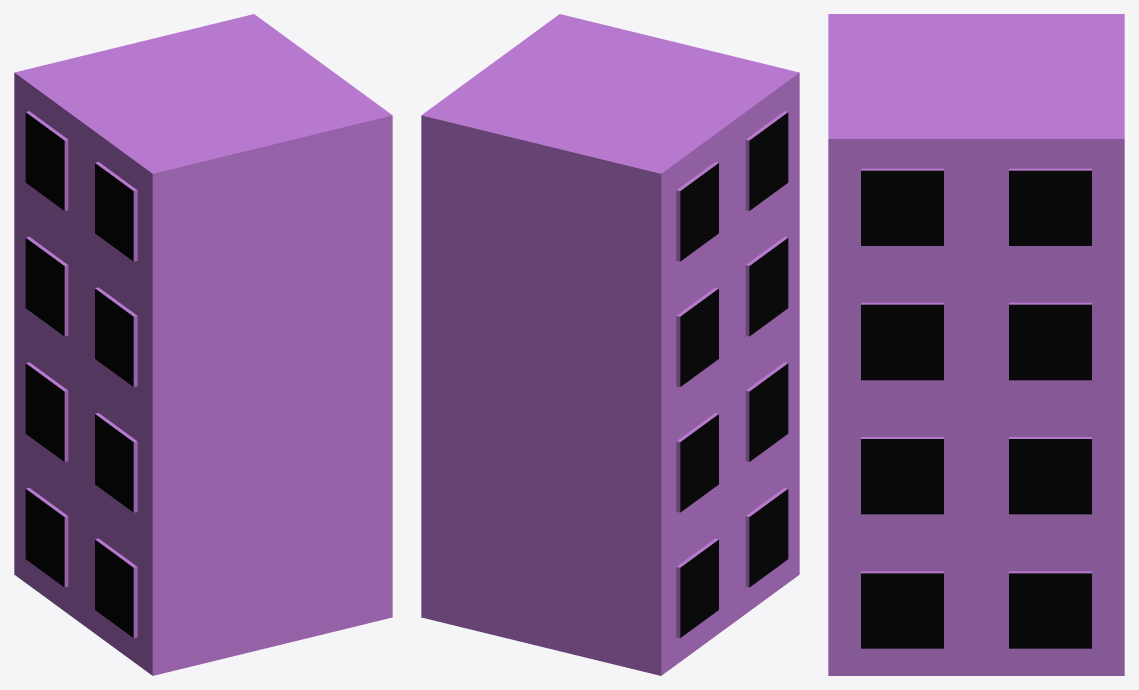
Rendered from building3.glb.
3 renders of one model, left to right at view 1: azimuth 30°, elevation 25°; view 2: azimuth 150°, elevation 25°; view 3: azimuth 270°, elevation 25°, orthographic. The views are drawn at different scales.
Visible parts, largest first — view 1: Cube; view 2: Cube; view 3: Cube.
Part boxes in pixels (bbox=[...]): Cube: bbox=[14, 14, 392, 675]; Cube: bbox=[421, 14, 799, 675]; Cube: bbox=[828, 14, 1124, 675].
Bounding box in the file's own units: 2.06 × 4 × 2.
